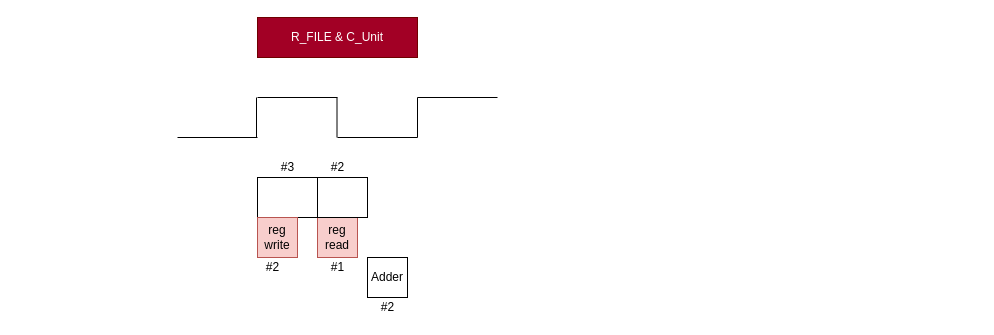
Image size: 994x335. Some labels were removed from this diagram. The box of each missing label's shape, as (x1, y1, x2, y2) in pixels:
control unit: (316, 176, 368, 218)
pipe_reg write+read: (256, 176, 318, 218)
